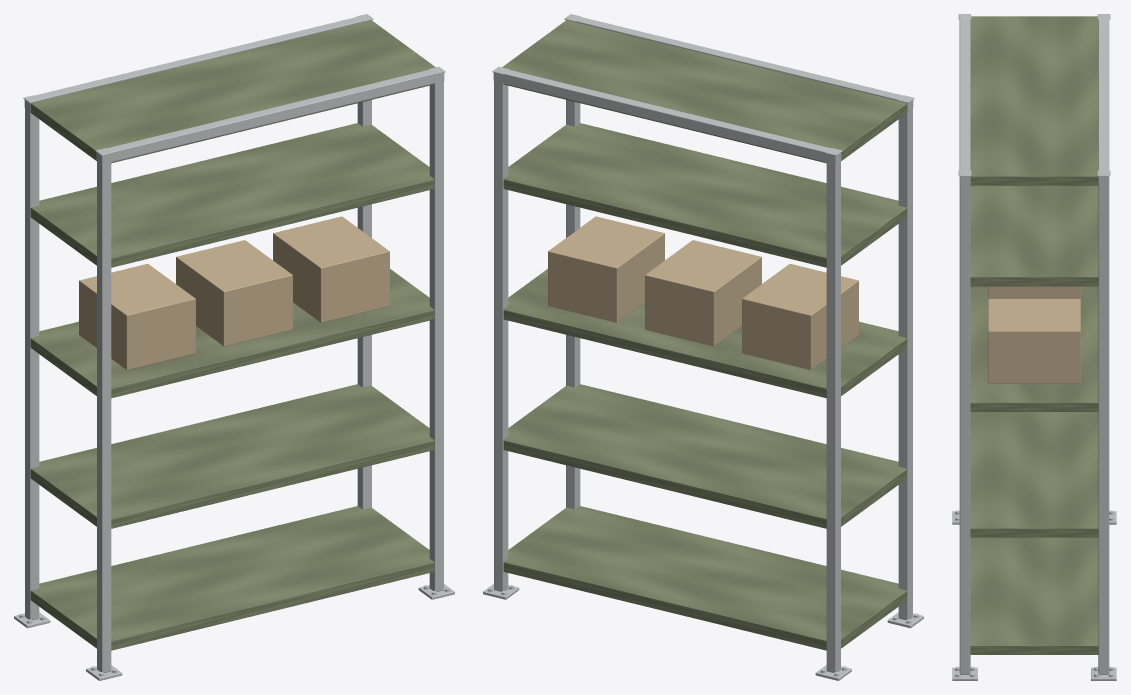
The model's file is fps-weapon-set-and-firing-range-ammo-shelf-ede2c0cc__19538.glb.
3 views of the same model, side by side, from view 1: azimuth 30°, elevation 25°; view 2: azimuth 150°, elevation 25°; view 3: azimuth 270°, elevation 25° (orthographic). The views are drawn at different scales.
Parts seen in each view (by area): view 1: ammo-shelf; view 2: ammo-shelf; view 3: ammo-shelf.
Part boxes in pixels (x1,y1,x2,y2): ammo-shelf: [14, 14, 454, 680]; ammo-shelf: [483, 14, 923, 680]; ammo-shelf: [952, 14, 1116, 680].
Bounding box in the file's own units: 1.28 × 1.8 × 0.534.
Materials: 3 (1 with a texture image).
